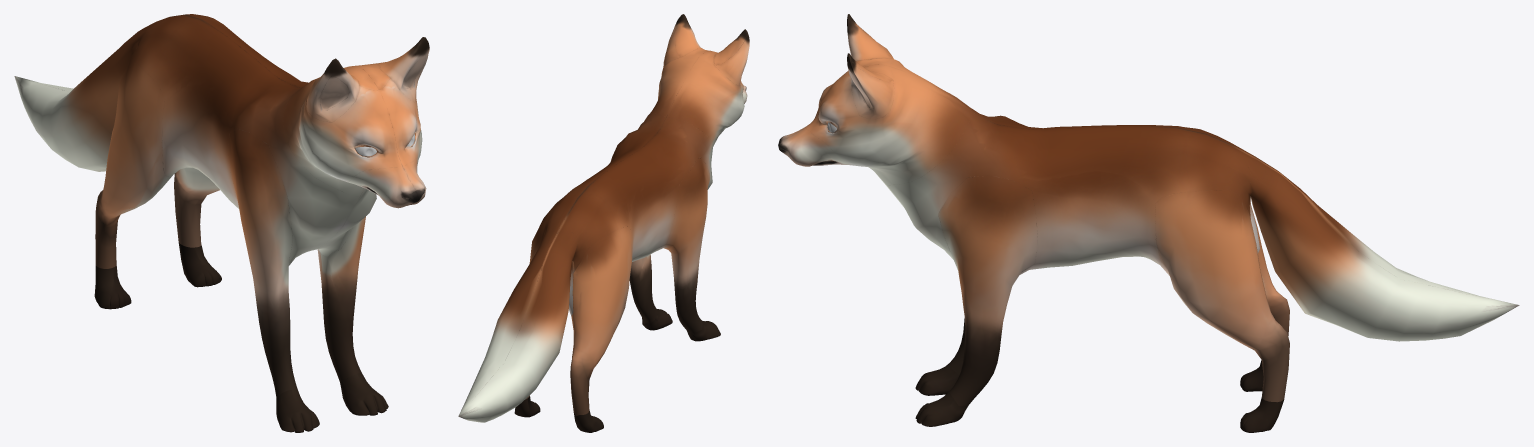
The model's file is Fox.fbx.
3 renders of one model, left to right at view 1: azimuth 30°, elevation 25°; view 2: azimuth 150°, elevation 25°; view 3: azimuth 270°, elevation 25°, orthographic. The views are drawn at different scales.
Visible parts, largest first — view 1: Fox; view 2: Fox; view 3: Fox.
Part boxes in pixels (<box>): Fox: <box>14,14,429,432</box>; Fox: <box>458,14,749,432</box>; Fox: <box>778,14,1519,432</box>.
Bounding box in the file's own units: 195 × 615 × 1109.
Materials: 2 (1 with a texture image).
